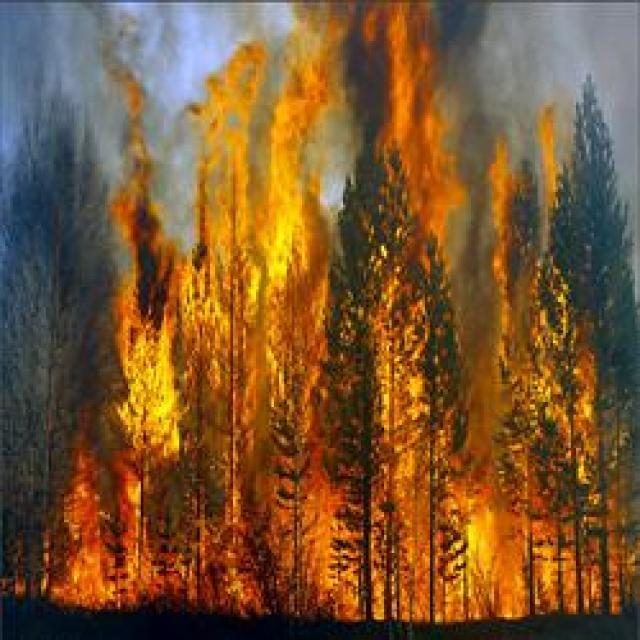fire: (30, 0, 625, 626)
